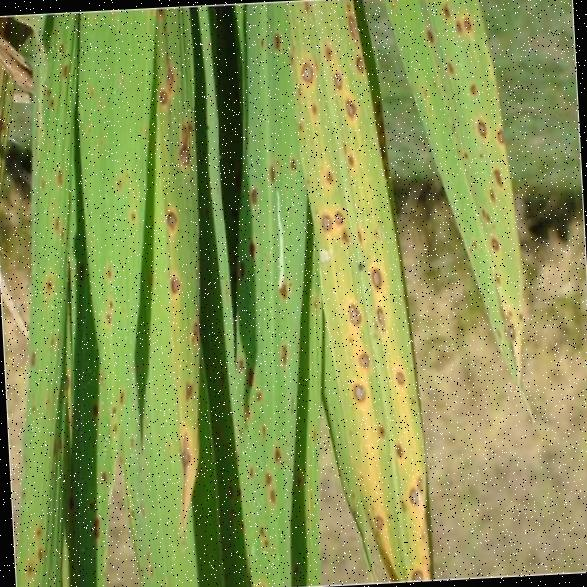Brown_Spot: (244, 456, 288, 510), (493, 290, 528, 348), (337, 10, 368, 74), (438, 0, 474, 41), (290, 46, 320, 88), (170, 421, 197, 465), (185, 312, 212, 356), (45, 150, 72, 194), (110, 171, 136, 216), (172, 372, 198, 417), (398, 470, 428, 509), (160, 262, 186, 306), (155, 193, 181, 237), (172, 118, 198, 162), (154, 59, 180, 103), (34, 76, 60, 120), (24, 517, 50, 561), (13, 342, 39, 386), (30, 258, 56, 302), (264, 428, 290, 472), (238, 377, 264, 421), (268, 326, 294, 370), (268, 265, 294, 309), (238, 173, 264, 217), (278, 139, 304, 183), (255, 13, 281, 57), (230, 237, 256, 280), (255, 146, 281, 189), (362, 501, 394, 535), (80, 508, 107, 546), (248, 520, 276, 555), (95, 286, 118, 328), (13, 551, 39, 587), (103, 388, 127, 427), (333, 87, 362, 119), (48, 39, 70, 76), (95, 254, 119, 286), (42, 210, 68, 239), (337, 138, 360, 170), (366, 412, 390, 442), (318, 198, 341, 229), (367, 262, 389, 294), (482, 159, 506, 188), (388, 437, 410, 468), (388, 363, 410, 394), (349, 343, 371, 374), (344, 293, 366, 324), (346, 378, 368, 409), (416, 14, 436, 48), (326, 66, 354, 90), (370, 302, 392, 332), (466, 110, 489, 138), (458, 78, 482, 100), (400, 561, 427, 580), (440, 52, 458, 76), (93, 460, 110, 483), (368, 222, 386, 242), (318, 165, 337, 182), (489, 227, 498, 254), (322, 34, 331, 61), (352, 223, 362, 246), (297, 0, 313, 14), (466, 233, 479, 250), (460, 144, 469, 162)
